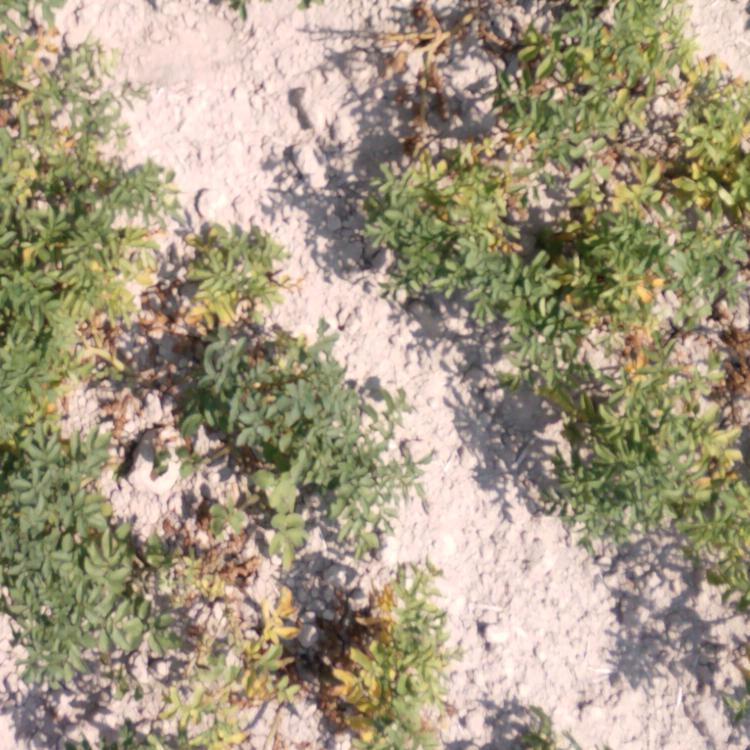healthy: (6, 491, 162, 727), (173, 353, 388, 502), (473, 695, 588, 750)
stressed: (1, 190, 285, 347), (166, 511, 321, 750), (478, 310, 750, 435), (360, 140, 530, 305), (490, 1, 683, 142), (313, 561, 449, 750), (1, 1, 128, 189), (539, 141, 671, 304), (1, 353, 139, 482), (554, 436, 750, 511), (691, 63, 750, 307), (664, 505, 750, 647), (367, 1, 473, 73)
